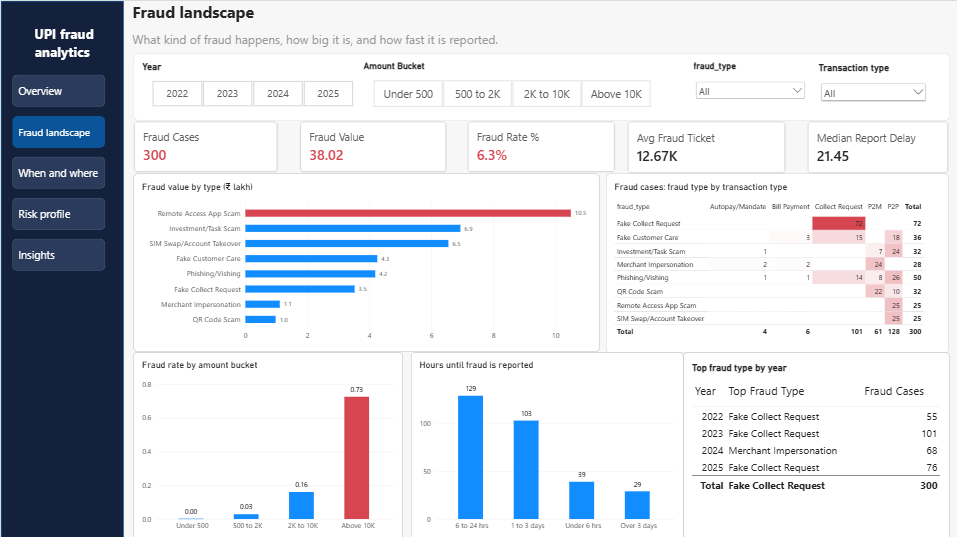

The dashboard page shown, as its layout file describes it:
{"tool":"powerbi","page":{"name":"Fraud landscape","canvas":[1920,1080],"ordinal":1},"visuals":[{"type":"textbox","box":[263,0,1146,102.6],"z":0},{"type":"shape","box":[0,0,244.9,1080.6],"z":1000},{"type":"textbox","box":[0,47.3,244.9,72],"z":2000},{"type":"pageNavigator","box":[23.5,147.5,186,393.4],"z":3000},{"type":"shape","box":[263.8,103.8,1632.4,134.1],"z":4000},{"type":"slicer","title":"Year","fields":{"Values":["upi_transactions_2022_2025_clean_5k.txn_datetime.Variation.Date Hierarchy.Year"]},"box":[283.2,118.9,440.5,92.6],"z":5000},{"type":"slicer","title":"fraud_type","fields":{"Values":["upi_transactions_2022_2025_clean_5k.fraud_type"]},"box":[1385.9,118.9,228.5,119.4],"z":6000},{"type":"slicer","title":"Transaction type","fields":{"Values":["upi_transactions_2022_2025_clean_5k.txn_type"]},"box":[1634.6,123.2,220.5,93],"z":7000},{"type":"cardVisual","fields":{"Data":["Measures (2).Fraud Value"]},"box":[596.8,240,294.1,103.8],"z":8000},{"type":"cardVisual","fields":{"Data":["Measures (2).Fraud Cases"]},"box":[263.8,240,289.7,103.8],"z":9000},{"type":"cardVisual","fields":{"Data":["Measures (2).Avg Fraud Ticket"]},"box":[1251.9,240,317.8,105.9],"z":10000},{"type":"cardVisual","fields":{"Data":["Measures (2).Fraud Rate %"]},"box":[931.9,240,296.2,103.8],"z":11000},{"type":"slicer","title":"Amount Bucket","fields":{"Values":["upi_transactions_2022_2025_clean_5k.Amount Bucket"]},"box":[724.3,118.9,592.4,93],"z":12000},{"type":"cardVisual","fields":{"Data":["Measures (2).Median Report Delay"]},"box":[1613,240,283.2,105.9],"z":13000},{"type":"clusteredBarChart","title":"Fraud value by type (₹ lakh)","fields":{"Category":["upi_transactions_2022_2025_clean_5k.fraud_type"],"Y":["Measures (2).Fraud Value"]},"box":[263.8,345.9,931.9,356.8],"z":14000},{"type":"pivotTable","title":"Fraud cases: fraud type by transaction type","fields":{"Columns":["upi_transactions_2022_2025_clean_5k.txn_type"],"Rows":["upi_transactions_2022_2025_clean_5k.fraud_type"],"Values":["Measures (2).Fraud Cases"]},"box":[1210.8,343.8,685.4,358.9],"z":15000},{"type":"clusteredColumnChart","title":"Fraud rate by amount bucket","fields":{"Category":["upi_transactions_2022_2025_clean_5k.Amount Bucket"],"Y":["Measures (2).Fraud Rate %"]},"box":[263.8,702.7,538.4,378.4],"z":16000},{"type":"clusteredColumnChart","title":"Hours until fraud is reported","fields":{"Category":["upi_transactions_2022_2025_clean_5k.Report Delay Bucket"],"Y":["Measures (2).Fraud Cases"]},"box":[819.5,702.7,544.9,378.4],"z":17000},{"type":"tableEx","title":"Top fraud type by year","fields":{"Values":["upi_transactions_2022_2025_clean_5k.txn_datetime.Variation.Date Hierarchy.Year","Measures (2).Top Fraud Type","Measures (2).Fraud Cases"]},"box":[1364.3,702.7,531.9,378.4],"z":18000}]}

Visuals, with their boxes on the page's 1920x1080 design canvas (x1, y1, x2, y2). These are canvas units, not pixel positions in the 957x537 screenshot, which may show the page scaled, cropped or inside an application window:
textbox: (263,0,1409,103)
shape: (0,0,245,1081)
textbox: (0,47,245,119)
pageNavigator: (24,148,210,541)
shape: (264,104,1896,238)
"Year" slicer: (283,119,724,212)
"fraud_type" slicer: (1386,119,1614,238)
"Transaction type" slicer: (1635,123,1855,216)
cardVisual - Measures (2).Fraud Value: (597,240,891,344)
cardVisual - Measures (2).Fraud Cases: (264,240,554,344)
cardVisual - Measures (2).Avg Fraud Ticket: (1252,240,1570,346)
cardVisual - Measures (2).Fraud Rate %: (932,240,1228,344)
"Amount Bucket" slicer: (724,119,1317,212)
cardVisual - Measures (2).Median Report Delay: (1613,240,1896,346)
"Fraud value by type (₹ lakh)" clusteredBarChart: (264,346,1196,703)
"Fraud cases: fraud type by transaction type" pivotTable: (1211,344,1896,703)
"Fraud rate by amount bucket" clusteredColumnChart: (264,703,802,1081)
"Hours until fraud is reported" clusteredColumnChart: (820,703,1364,1081)
"Top fraud type by year" tableEx: (1364,703,1896,1081)
